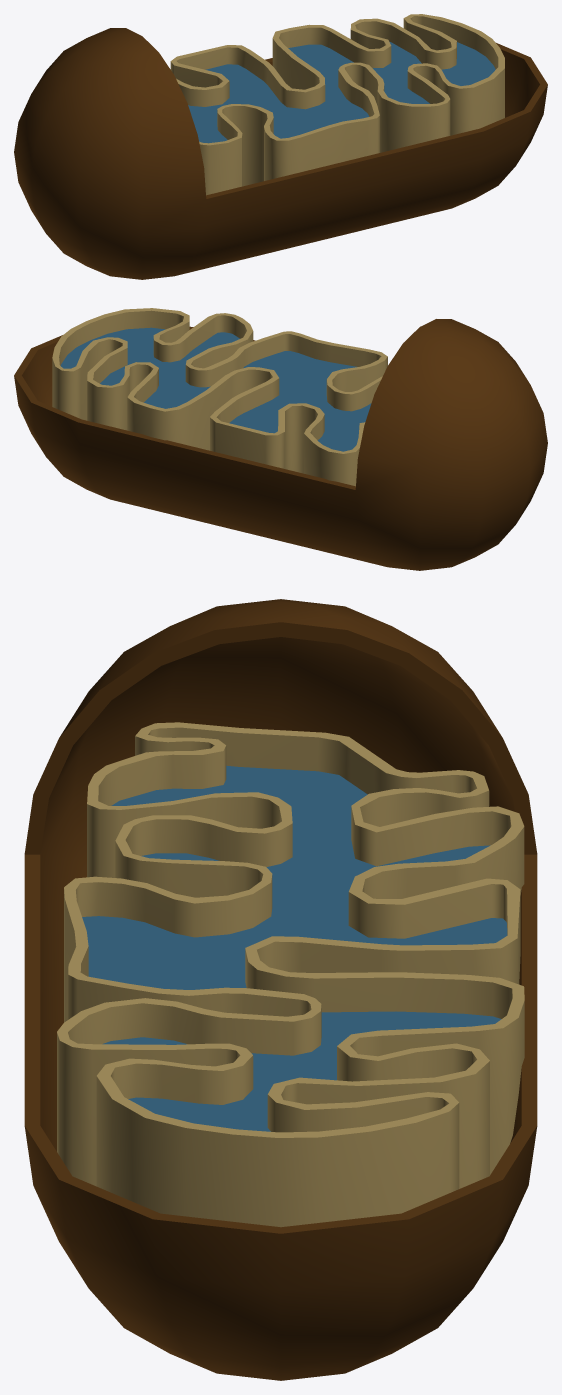
The model's file is Mitochondria.obj.
3 views of the same model, one above another, from view 1: azimuth 30°, elevation 25°; view 2: azimuth 150°, elevation 25°; view 3: azimuth 270°, elevation 25° (orthographic). The views are drawn at different scales.
Visible parts, largest first — view 1: Outer_Membrane Mitochondria Cell, Mitochondria Cell Cristae, Mitochondria Cell Matrix; view 2: Outer_Membrane Mitochondria Cell, Mitochondria Cell Cristae, Mitochondria Cell Matrix; view 3: Mitochondria Cell Cristae, Outer_Membrane Mitochondria Cell, Mitochondria Cell Matrix.
Part boxes in pixels (x1,y1,x2,y2): Outer_Membrane Mitochondria Cell: (14, 28, 547, 279); Mitochondria Cell Cristae: (170, 14, 504, 195); Mitochondria Cell Matrix: (188, 42, 495, 143); Outer_Membrane Mitochondria Cell: (14, 319, 547, 570); Mitochondria Cell Cristae: (52, 308, 387, 486); Mitochondria Cell Matrix: (61, 327, 371, 451); Mitochondria Cell Cristae: (57, 722, 524, 1227); Outer_Membrane Mitochondria Cell: (24, 599, 537, 1380); Mitochondria Cell Matrix: (82, 765, 507, 1131).
Bounding box in the file's own units: 67.5 × 30 × 30.
